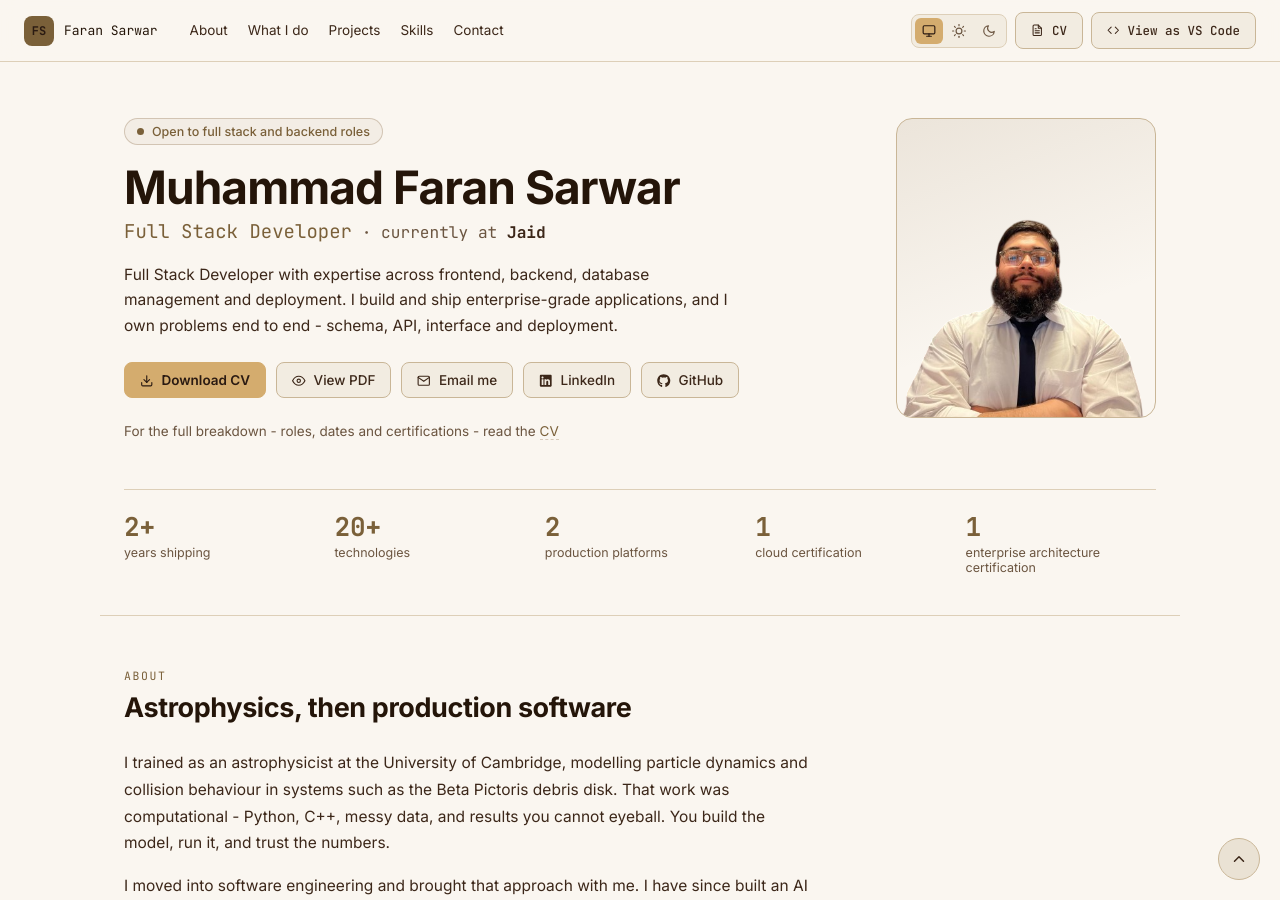
Scenario: unknown commands fail loudly instead of silently
This screenshot has width=1280, height=900.
Click the button "View as VS Code": point(1174, 30) [1091,12,1256,49]
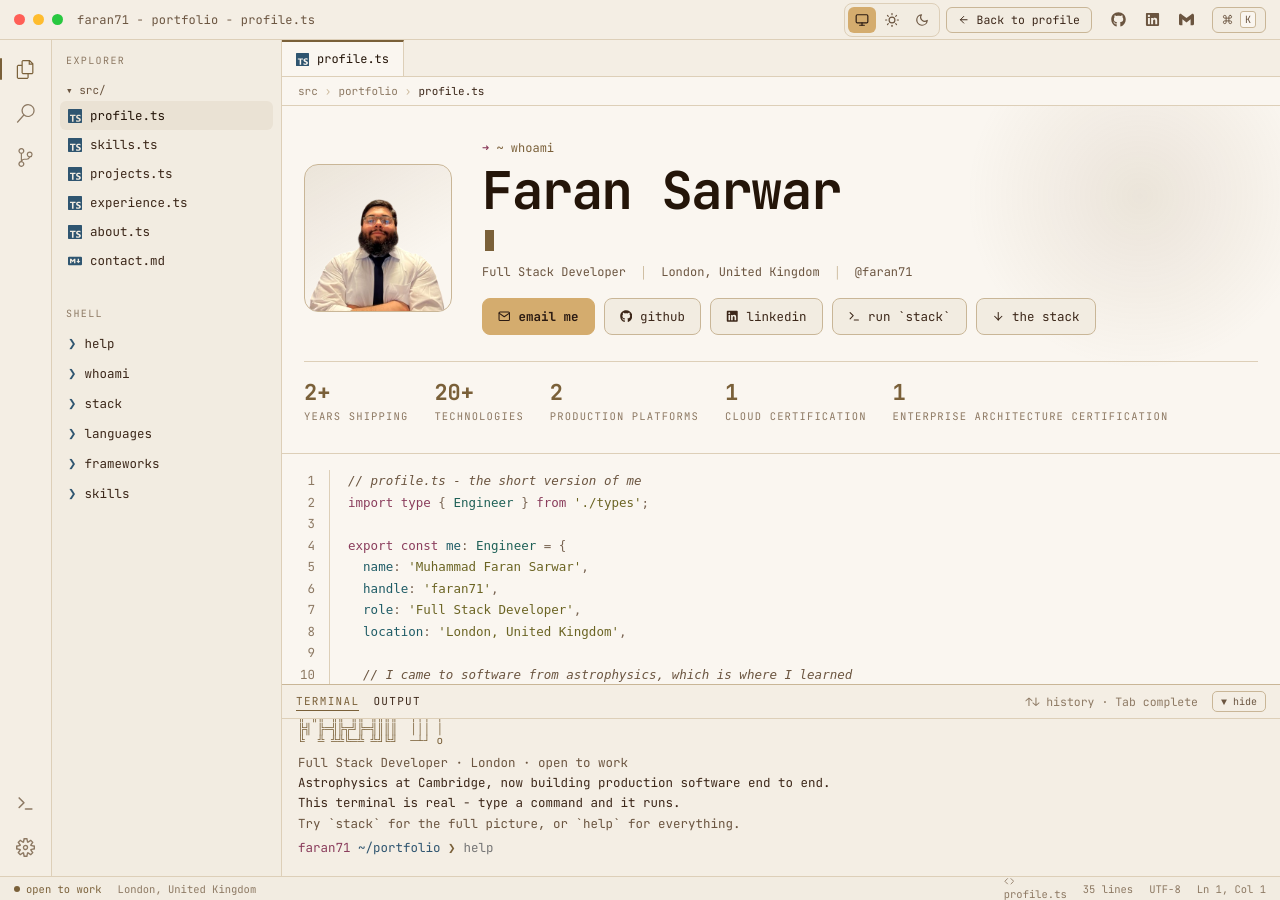
In the field named "terminal command input": point(864, 847) [464,839,1264,856], type "nonsense"
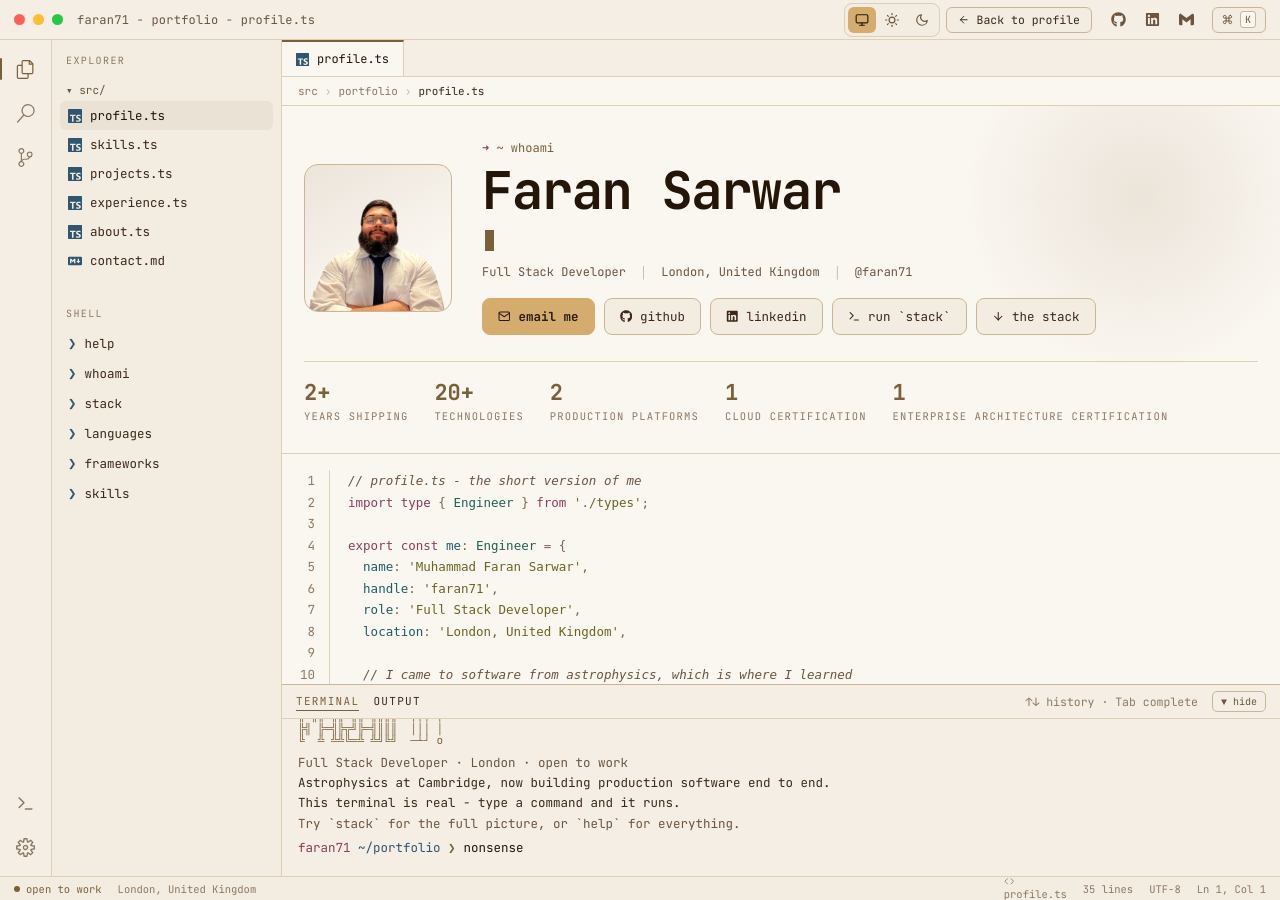
Submit the form named "terminal command input", box [298,838,1264,858]
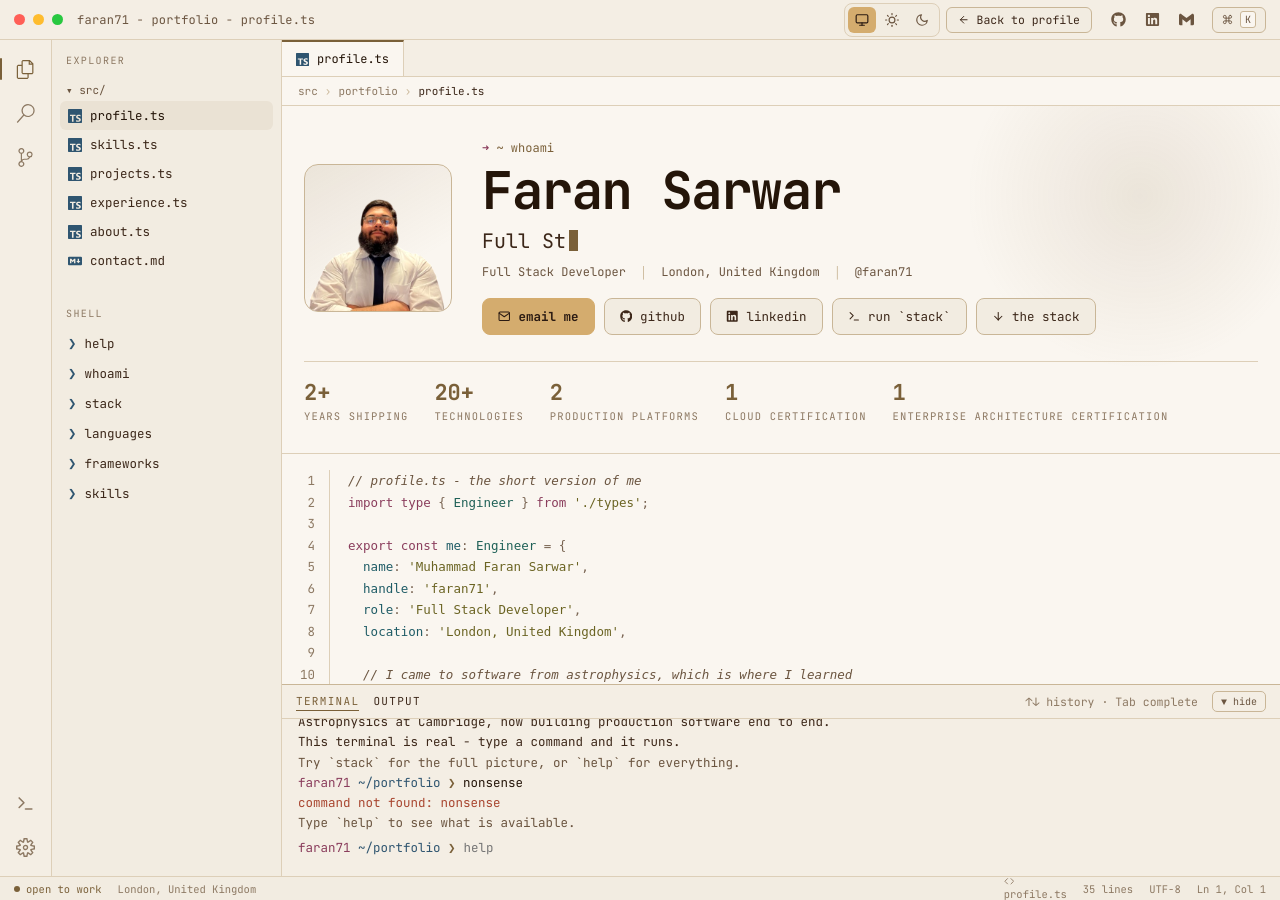
Now the text "command not found: nonsense" is shown, box [298,794,500,811]
